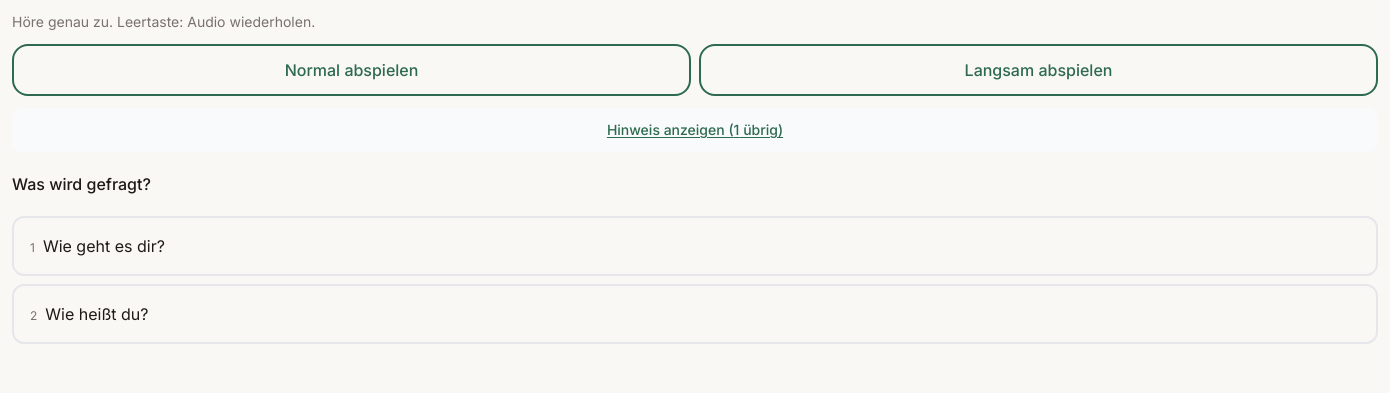
ListenExercise › supports normal, slow, cached-source feedback, and one limited reveal
The image size is (1390, 393).
Click the button "Langsam abspielen": point(1038, 70) x1=699 y1=44 x2=1378 y2=96
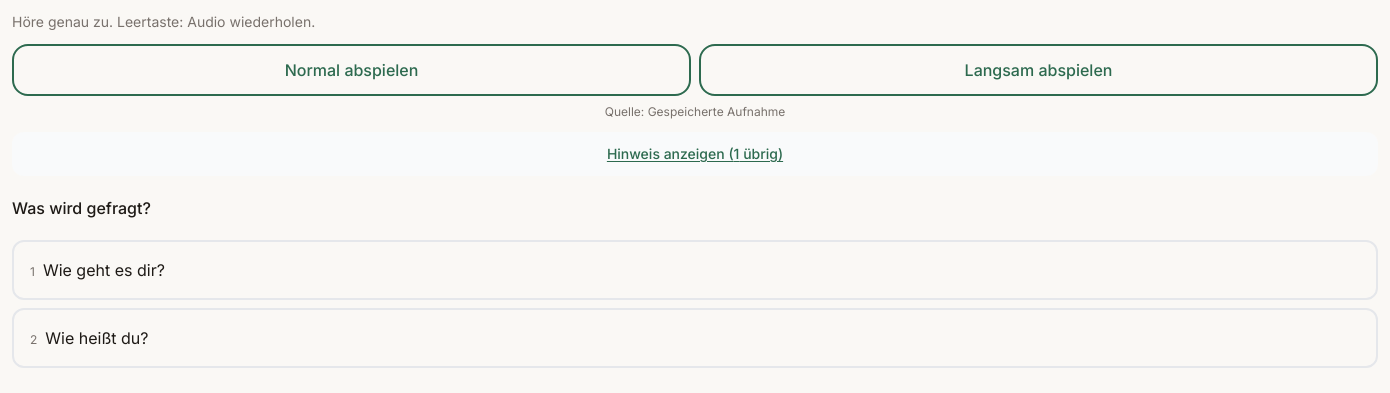
Check: the text "Quelle: Gespeicherte Aufnahme" is shown, box x1=605 y1=104 x2=785 y2=119
Click the button "Hinweis anzeigen (1 übrig)": point(695, 154) x1=607 y1=144 x2=783 y2=164
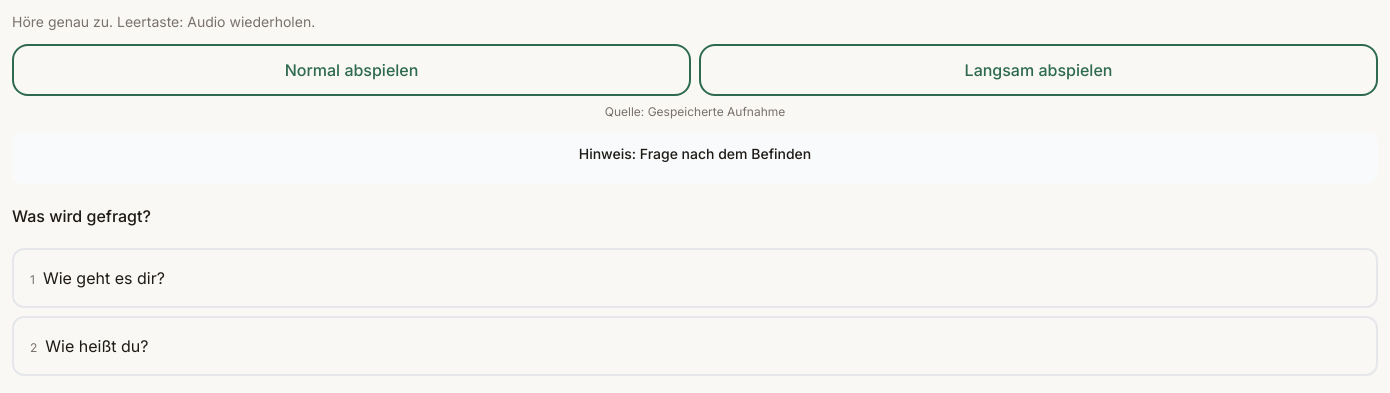
Check: the text "Hinweis: Frage nach dem Befinden" is shown, box x1=579 y1=145 x2=811 y2=162
Check: the button "Hinweis anzeigen" is gone
